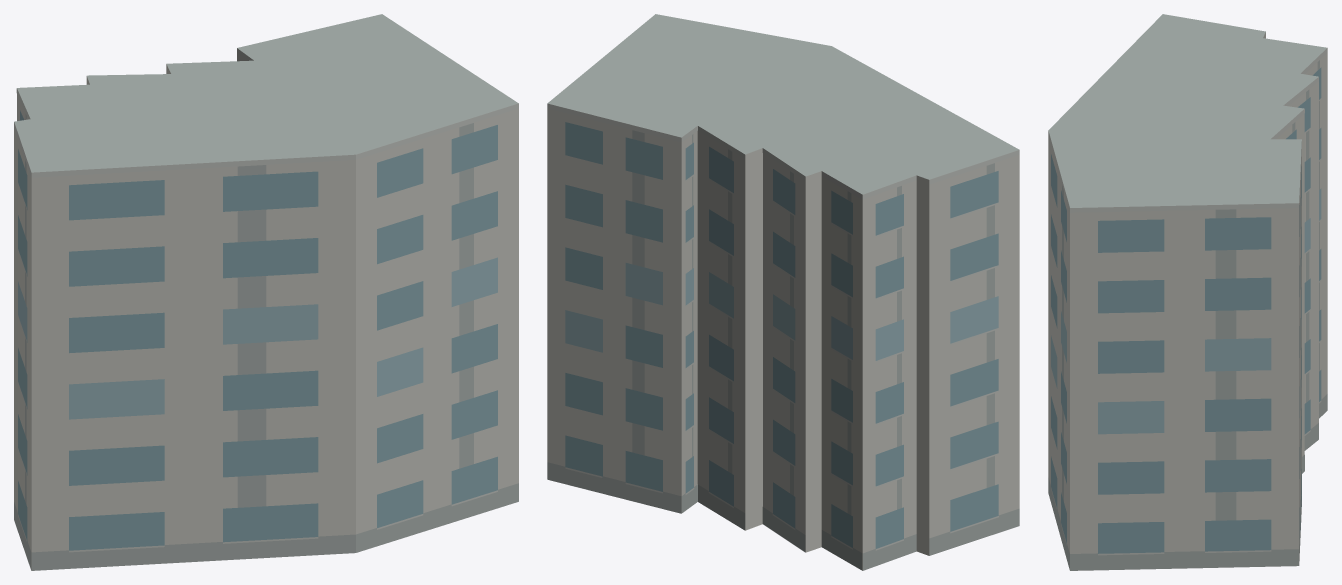
File: survey-upis-32690119.glb
3 views of the same model, side by side, from view 1: azimuth 30°, elevation 25°; view 2: azimuth 150°, elevation 25°; view 3: azimuth 270°, elevation 25° (orthographic). The views are drawn at different scales.
Visible parts, largest first — view 1: survey-upis-32690119.tmp; view 2: survey-upis-32690119.tmp; view 3: survey-upis-32690119.tmp.
Part boxes in pixels (x1=…): survey-upis-32690119.tmp: x1=14, y1=14, x2=518, y2=570; survey-upis-32690119.tmp: x1=547, y1=14, x2=1019, y2=570; survey-upis-32690119.tmp: x1=1048, y1=14, x2=1327, y2=570.
Size of the model in its own units: 21 by 18.3 by 12.77.
